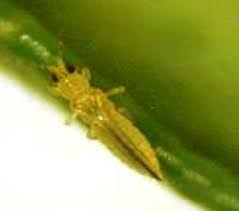Thrips: (36, 55, 175, 189)
